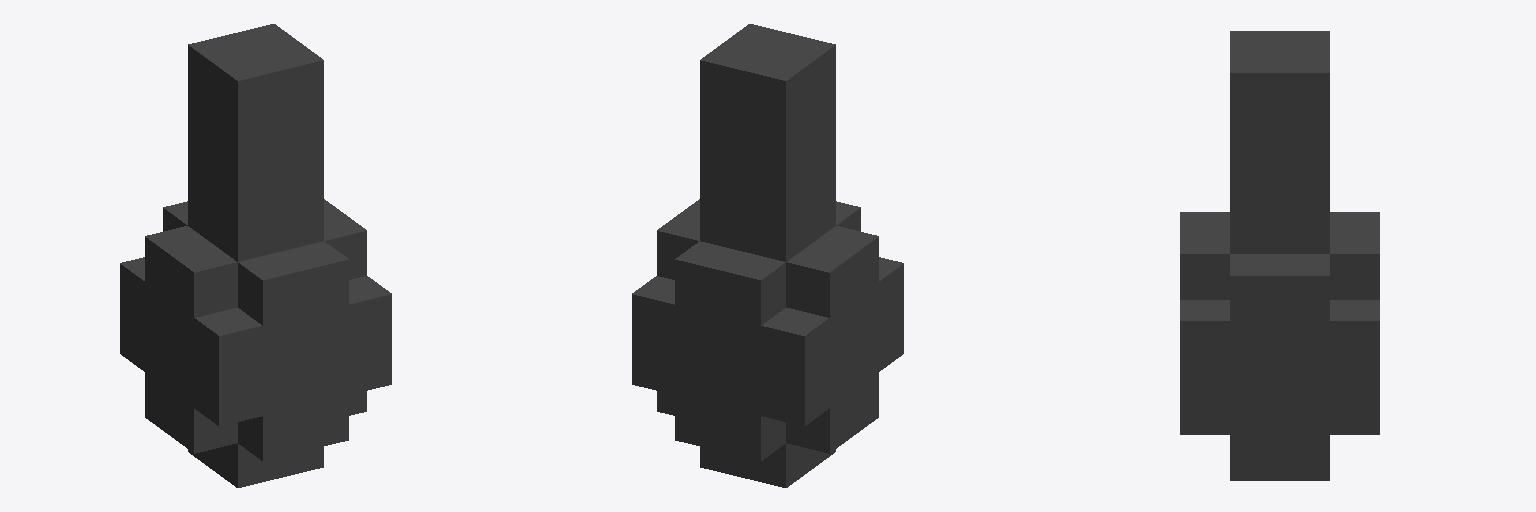
The picture shows the model from 3 angles: view 1: azimuth 30°, elevation 25°; view 2: azimuth 150°, elevation 25°; view 3: azimuth 270°, elevation 25°; orthographic projection.
Visible parts, largest first — view 1: object 1; view 2: object 1; view 3: object 1.
Part boxes in pixels (left/top/right/bottom): object 1: left=120, top=24, right=391, bottom=487; object 1: left=632, top=24, right=903, bottom=487; object 1: left=1180, top=31, right=1379, bottom=480.
Bounding box in the file's own units: 0.4 × 0.9 × 0.4.
Materials: 1 (1 with a texture image).